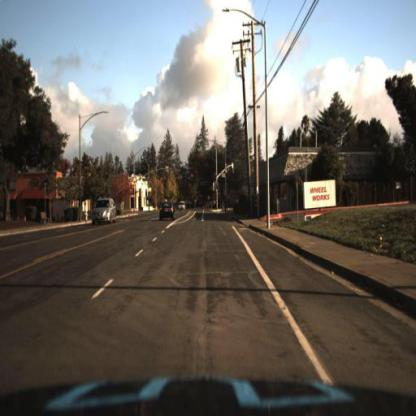car: (89, 195, 119, 226), (159, 200, 177, 224), (178, 199, 190, 213), (177, 201, 188, 212)
trafficLight-Red: (191, 173, 196, 185)
